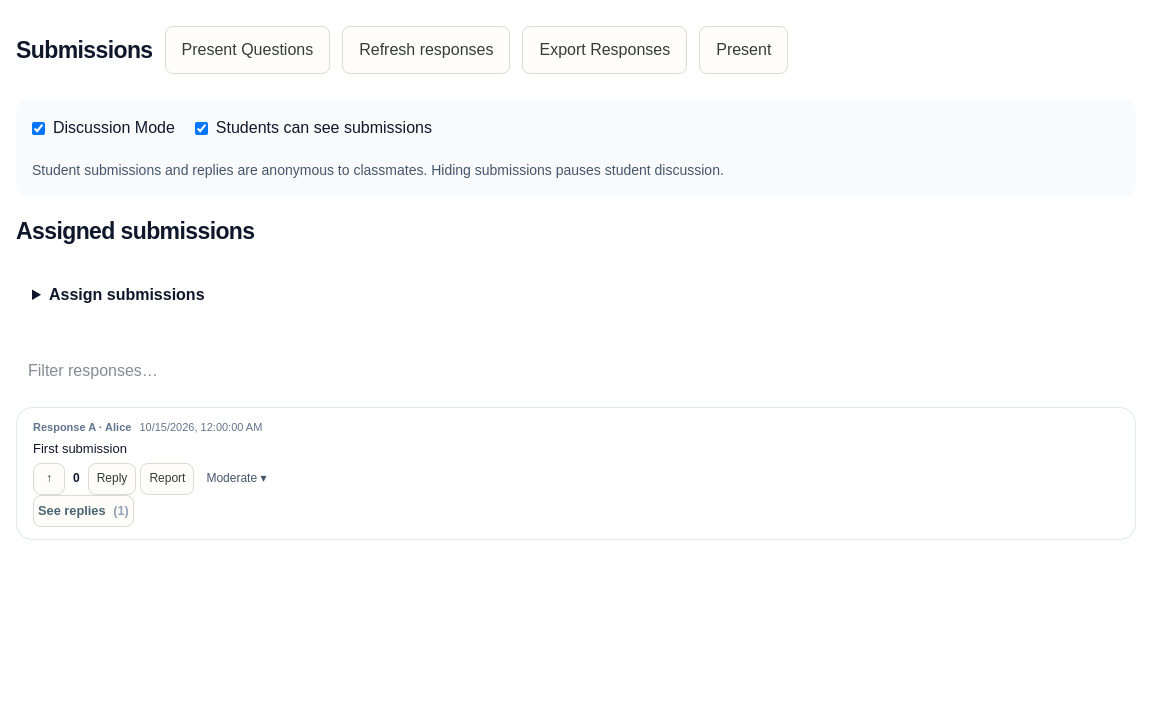
Test: reply editor omits text quotation controls
This screenshot has width=1152, height=720.
Click the button "Reply" at [112, 479], box left=88, top=463, right=136, bottom=495
(page scrolled)
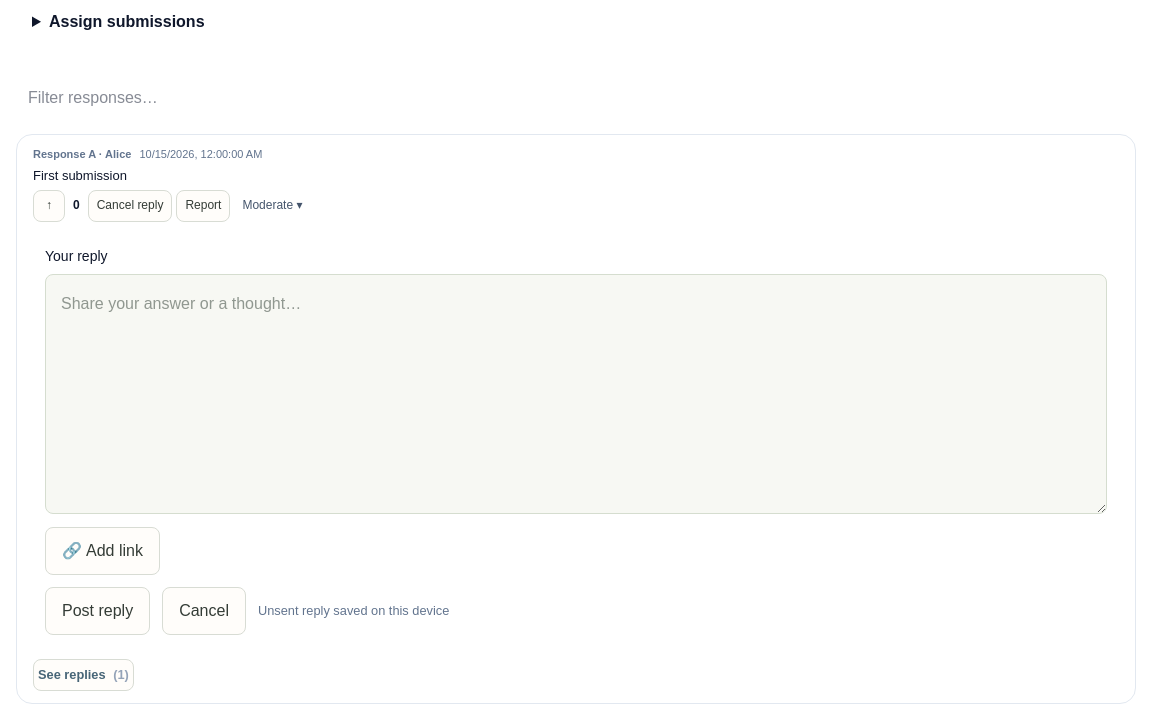
Expected: the text box labelled "Your reply" is shown, left=45, top=274, right=1107, bottom=514
